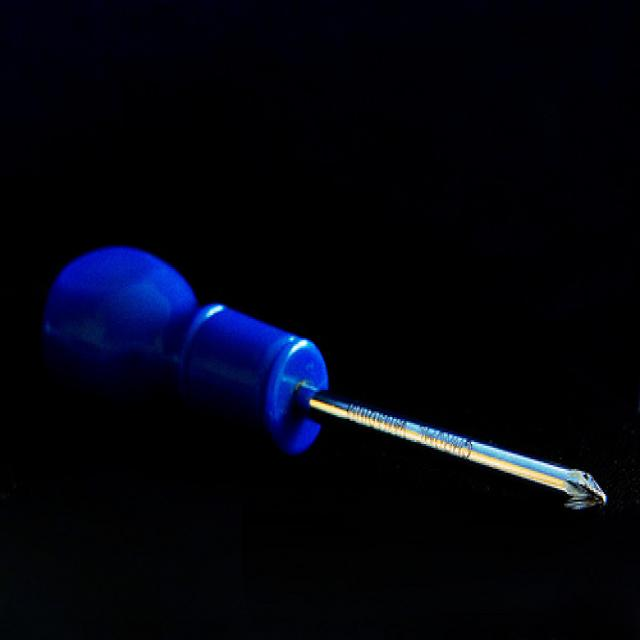Screwdriver: (42, 248, 606, 508)
